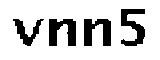5: (118, 5, 149, 48)
n: (45, 15, 79, 49), (82, 16, 115, 49)
v: (9, 16, 43, 49)
